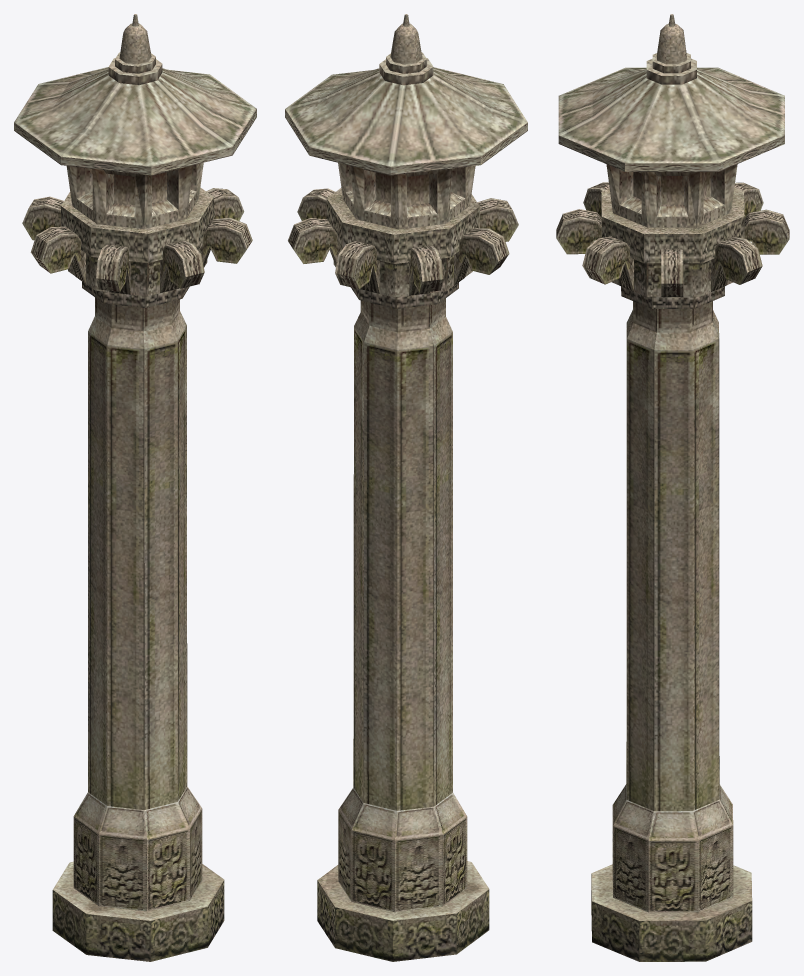
Rendered from a1_018-stonelight.fbx.
The picture shows the model from 3 angles, left to right: view 1: azimuth 30°, elevation 25°; view 2: azimuth 150°, elevation 25°; view 3: azimuth 270°, elevation 25°; orthographic projection.
Parts seen in each view (by area): view 1: Cone20; view 2: Cone20; view 3: Cone20.
Part boxes in pixels (bbox=[...]): Cone20: bbox=[14, 14, 256, 961]; Cone20: bbox=[285, 14, 527, 961]; Cone20: bbox=[556, 14, 789, 961].
Bounding box in the file's own units: 2.05 × 8.85 × 2.05.
